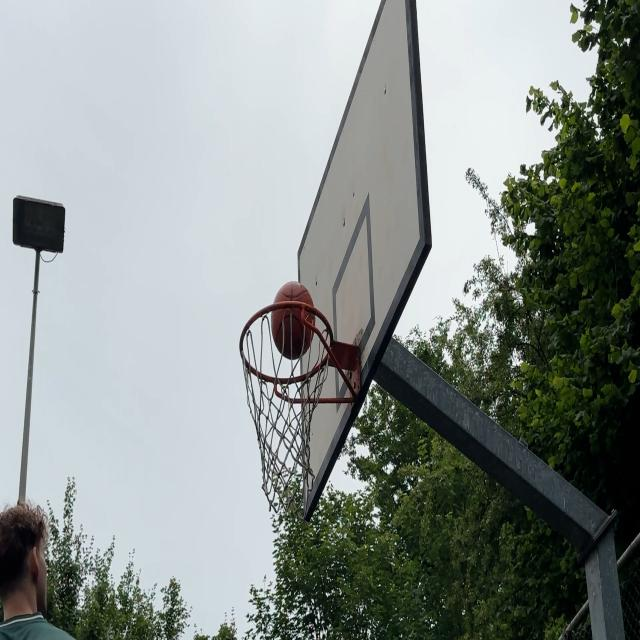Basketball: (270, 282, 314, 359)
